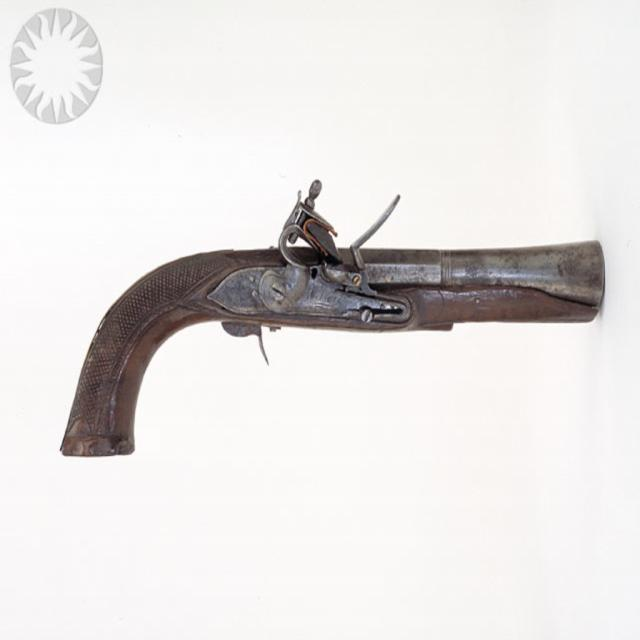weapon: (61, 172, 609, 452)
